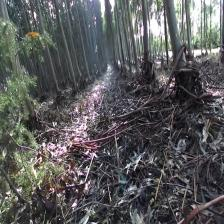trunk: (36, 4, 59, 92), (58, 18, 77, 92), (168, 2, 188, 68), (127, 6, 141, 72), (142, 3, 152, 69), (186, 3, 194, 55)
